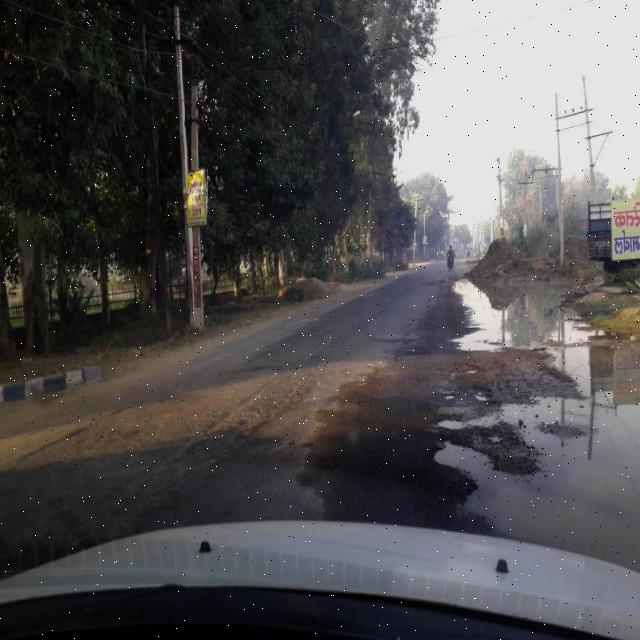D20: (135, 362, 311, 474)
D40: (402, 272, 640, 527)
